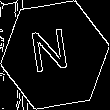N_S: (33, 27, 77, 83)
